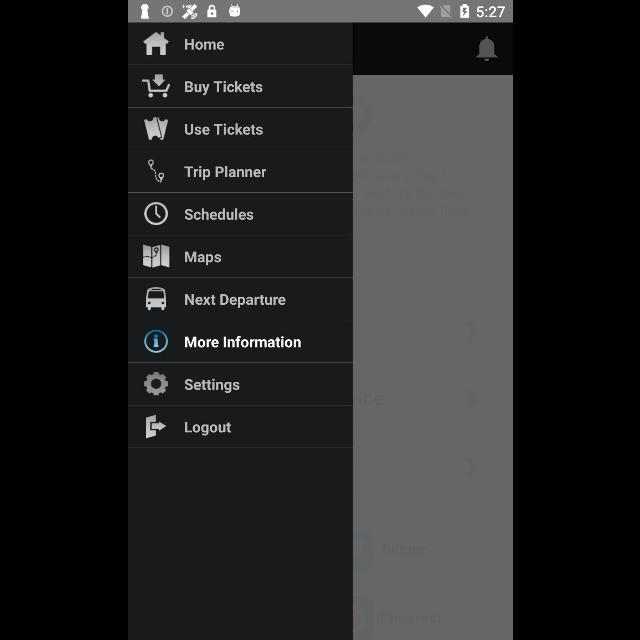icon: (142, 74, 170, 98), (142, 245, 170, 268), (143, 32, 169, 56), (143, 117, 167, 141), (475, 36, 497, 62), (144, 202, 168, 225), (144, 414, 166, 438), (144, 372, 166, 396), (143, 330, 167, 352), (146, 160, 164, 182)
image: (145, 288, 165, 310)
panel: (128, 22, 352, 640)
text: (185, 294, 285, 308), (184, 336, 300, 348), (184, 80, 262, 96), (184, 166, 266, 180), (184, 123, 262, 135), (184, 209, 252, 221), (184, 379, 240, 393), (184, 422, 230, 436), (184, 252, 220, 266), (184, 39, 223, 50)
uppertaskbar: (128, 1, 512, 23)
